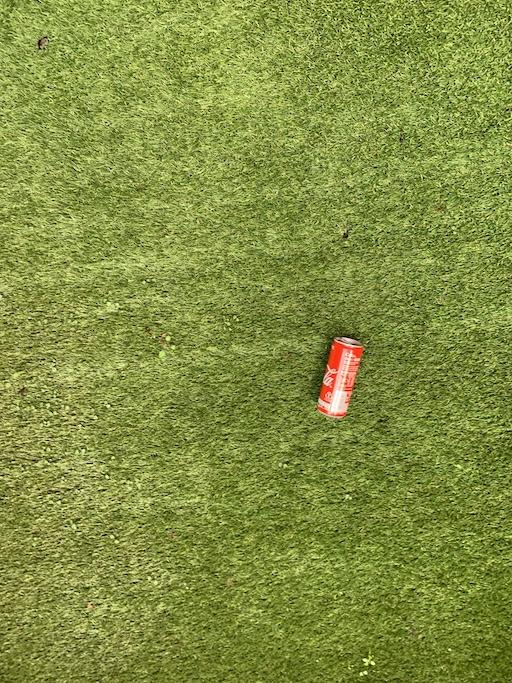Aluminum can: (302, 321, 376, 424)
